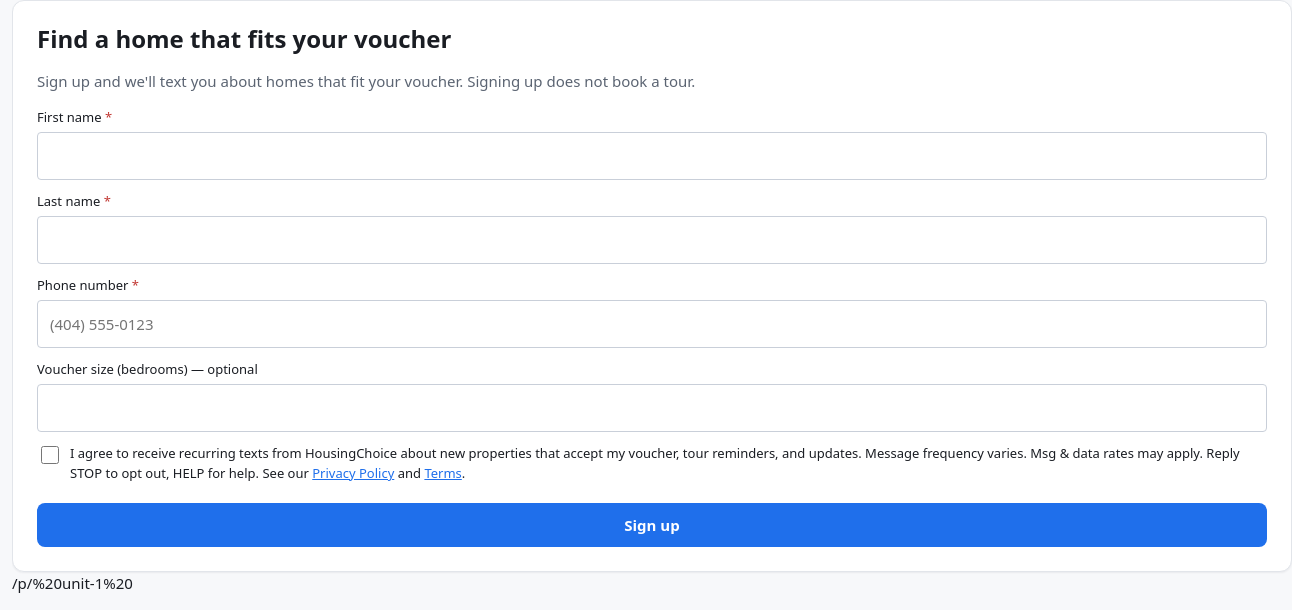
it: FlyerPage - the fallback (permanent-flyer-links D4) › a route unitId with surrounding spaces is sent trimmed
This screenshot has width=1292, height=610.
Check: the heading "Find a home that fits your voucher" is shown, box [37,22,452,55]
Type "Ada" into the field labelled "First name *" at (652, 156), box [37,132,1267,180]
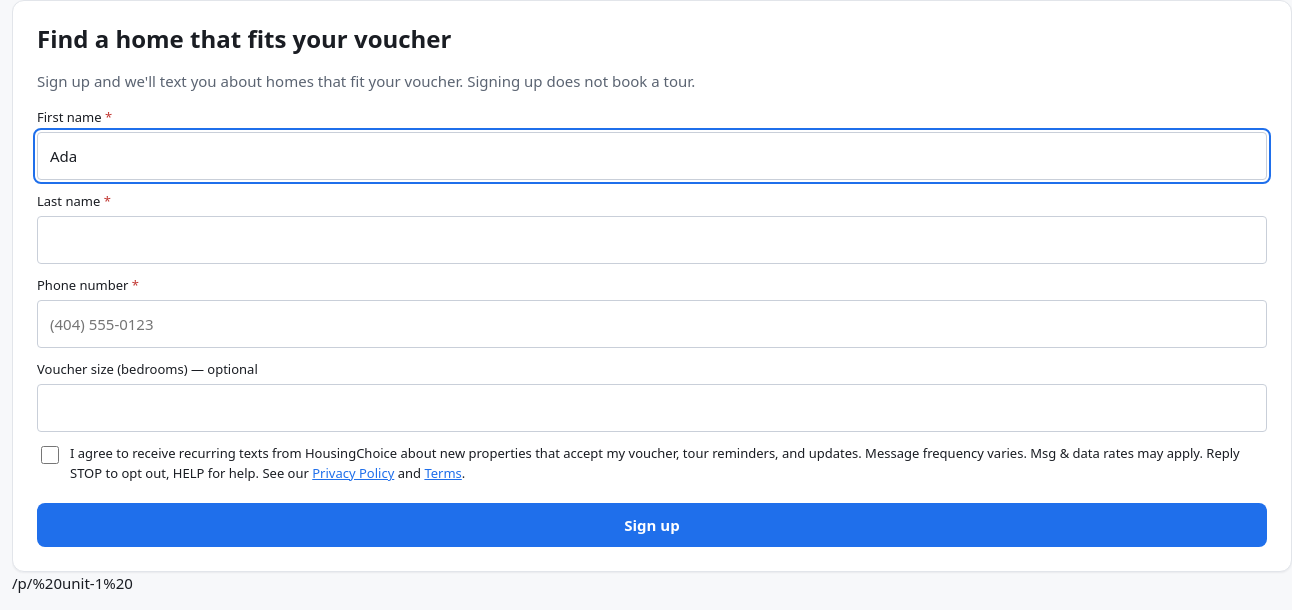
Type "Lovelace" into the field labelled "Last name *" at (652, 240), box [37,216,1267,264]
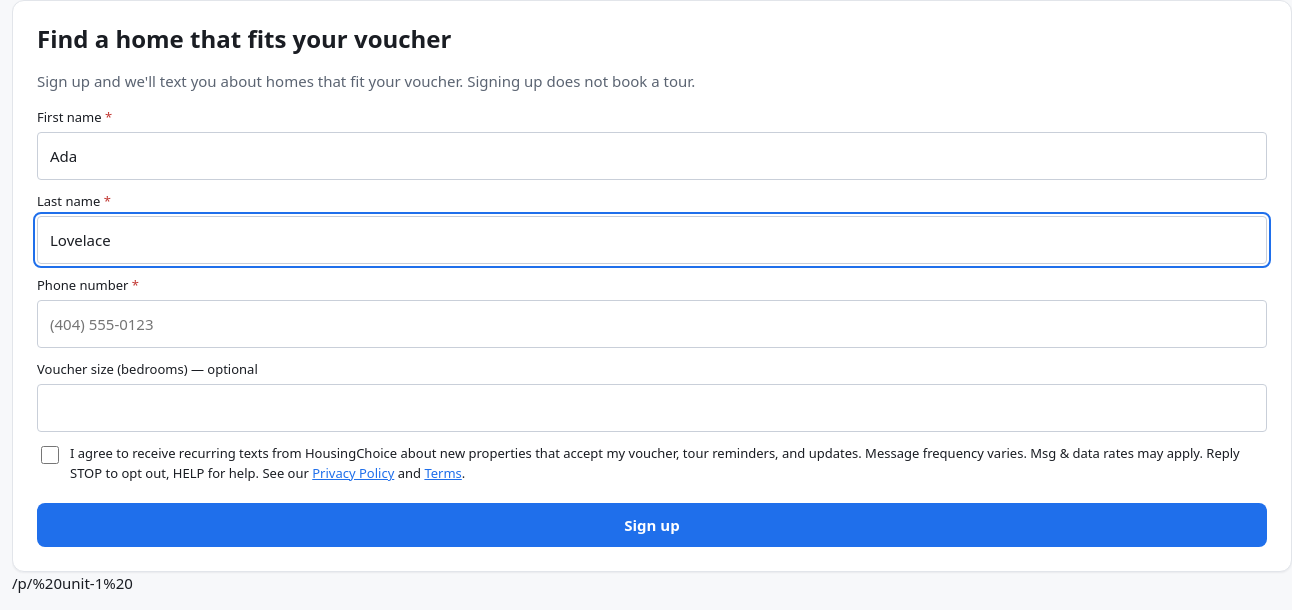
Type "4045551234" into the field labelled "Phone number *" at (652, 324), box [37,300,1267,348]
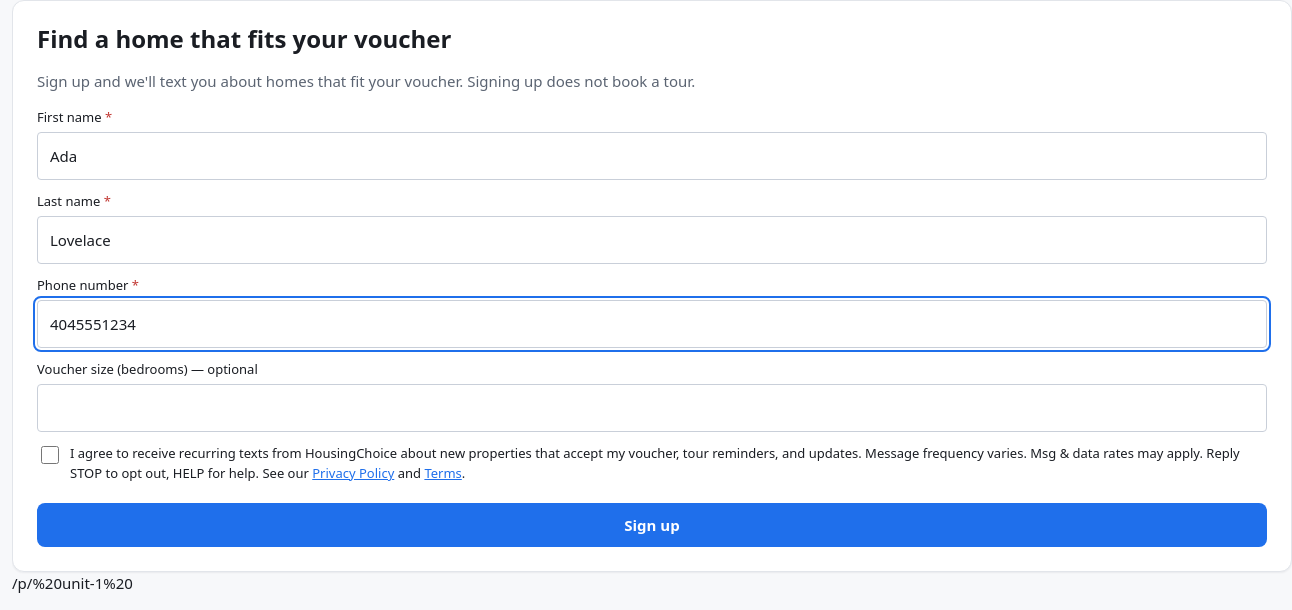
Click the checkbox labelled "I agree to receive" at (50, 455), box [41,446,59,464]
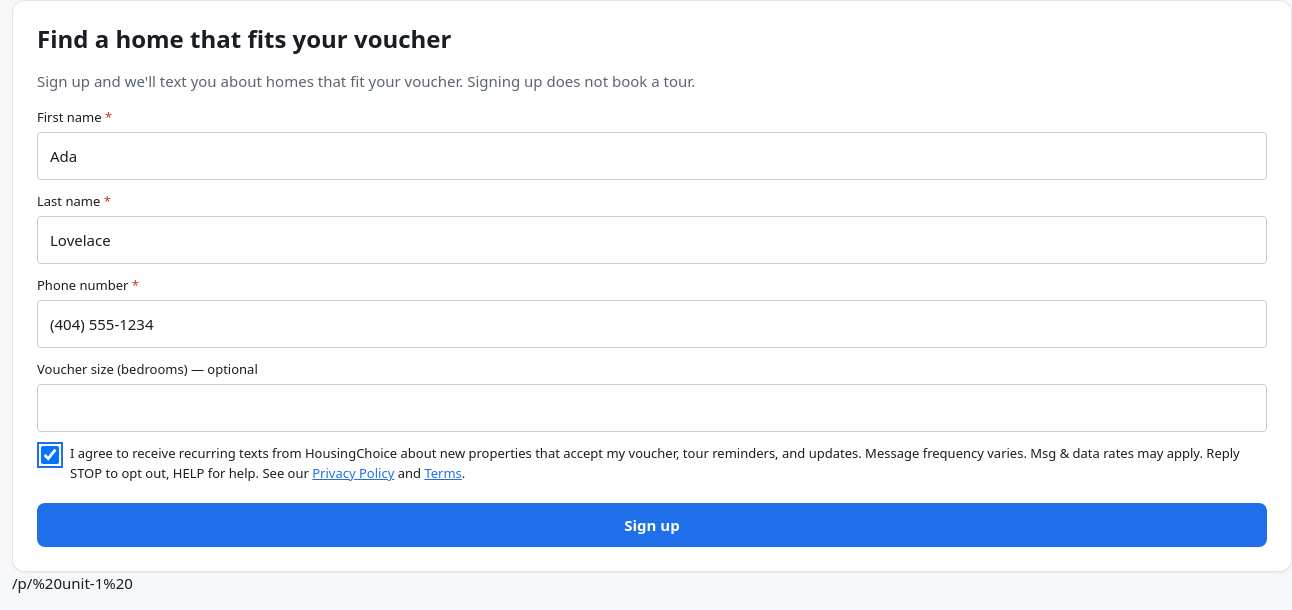
Click the button "Sign up" at (652, 525), box [37,503,1267,547]
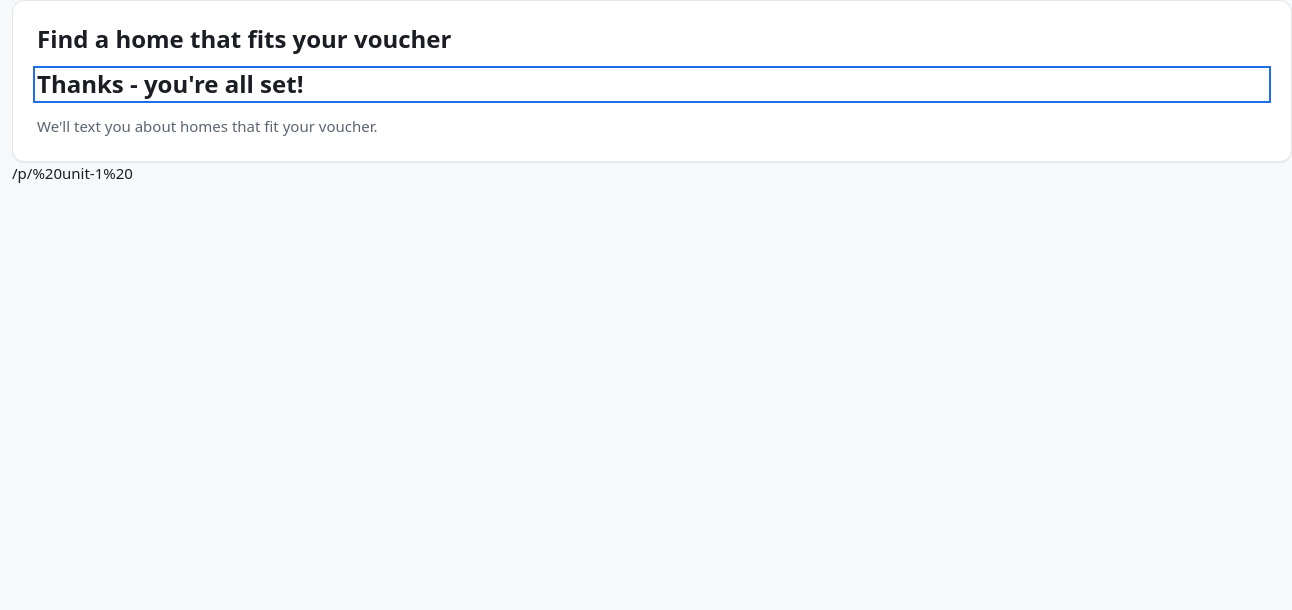
Check: the heading "Thanks - you're all set!" is shown, box [37,67,304,100]
